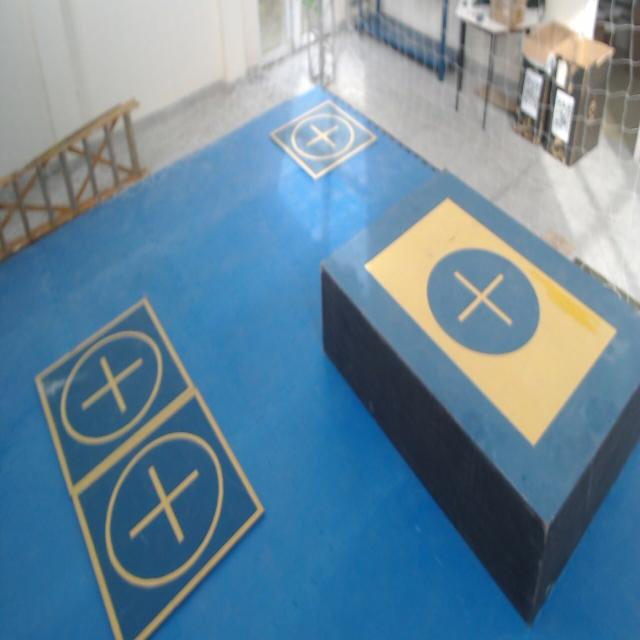base_inicio: (361, 197, 617, 447)
base_pouso: (72, 389, 263, 639), (34, 296, 198, 498), (270, 99, 379, 181)
